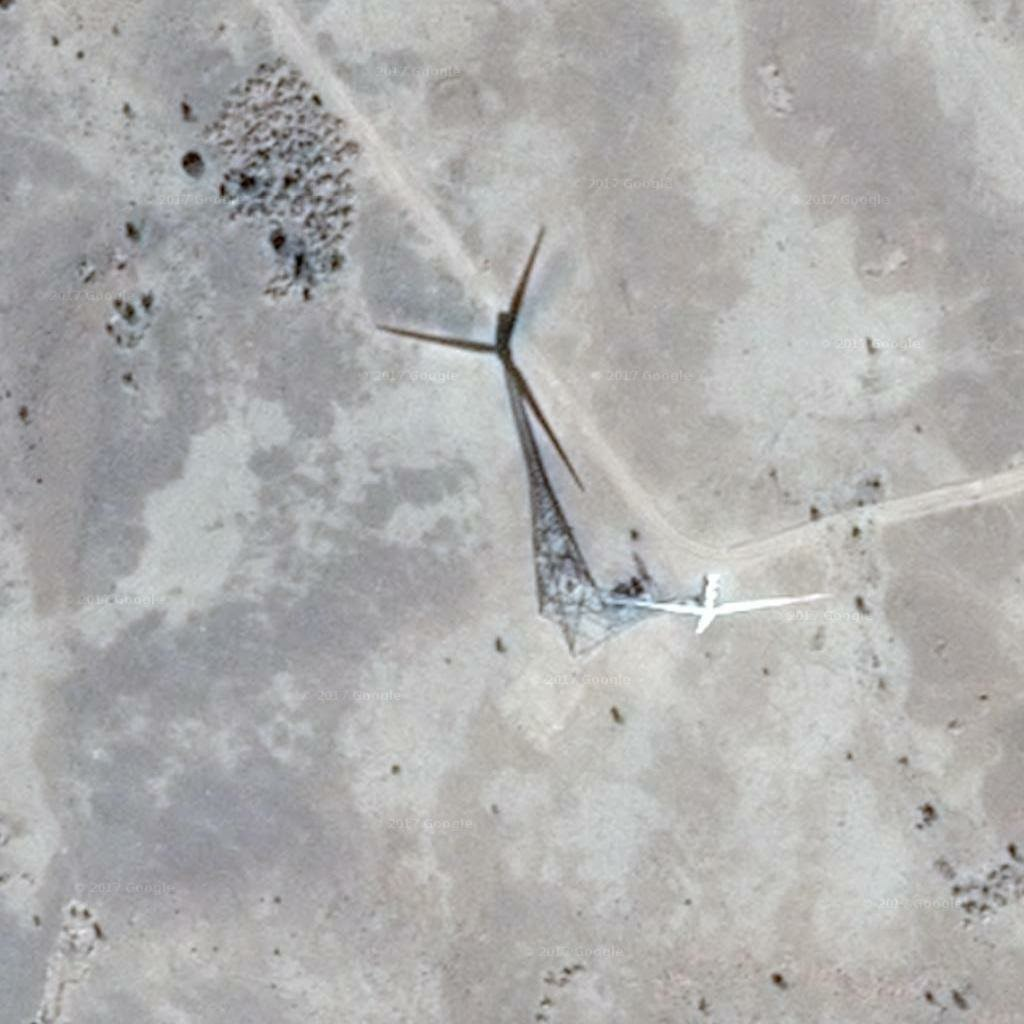Windmill: (367, 221, 607, 611)
